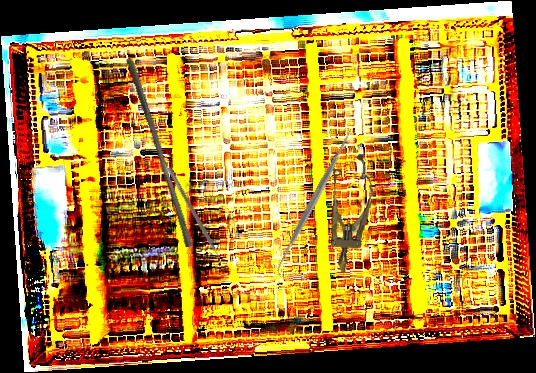Pusher: (118, 56, 200, 249)
Spatula Surgical: (267, 125, 360, 279), (162, 166, 226, 267)
Speculum: (319, 151, 377, 274)
